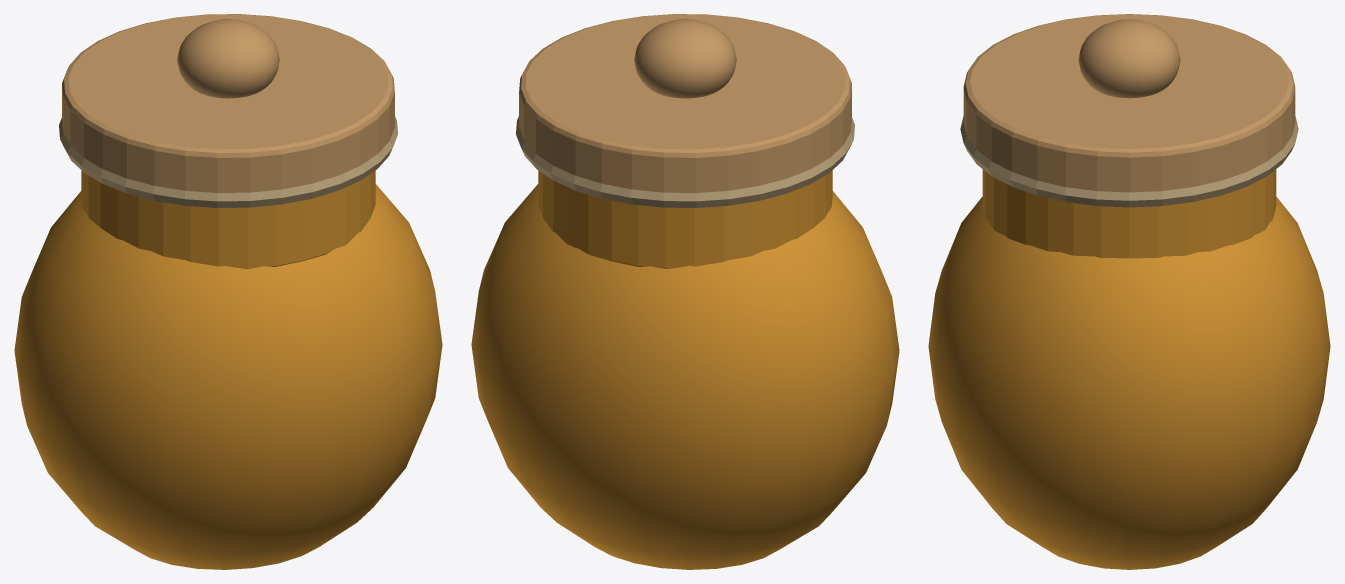
File: honey.fbx
3 renders of one model, left to right at view 1: azimuth 30°, elevation 25°; view 2: azimuth 150°, elevation 25°; view 3: azimuth 270°, elevation 25°, orthographic.
Parts seen in each view (by area): view 1: SM_honey; view 2: SM_honey; view 3: SM_honey.
Part boxes in pixels (left/top/right/bottom): SM_honey: left=14, top=14, right=442, bottom=569; SM_honey: left=471, top=14, right=899, bottom=569; SM_honey: left=928, top=14, right=1330, bottom=569.
Bounding box in the file's own units: 13.6 × 18.2 × 12.6.
